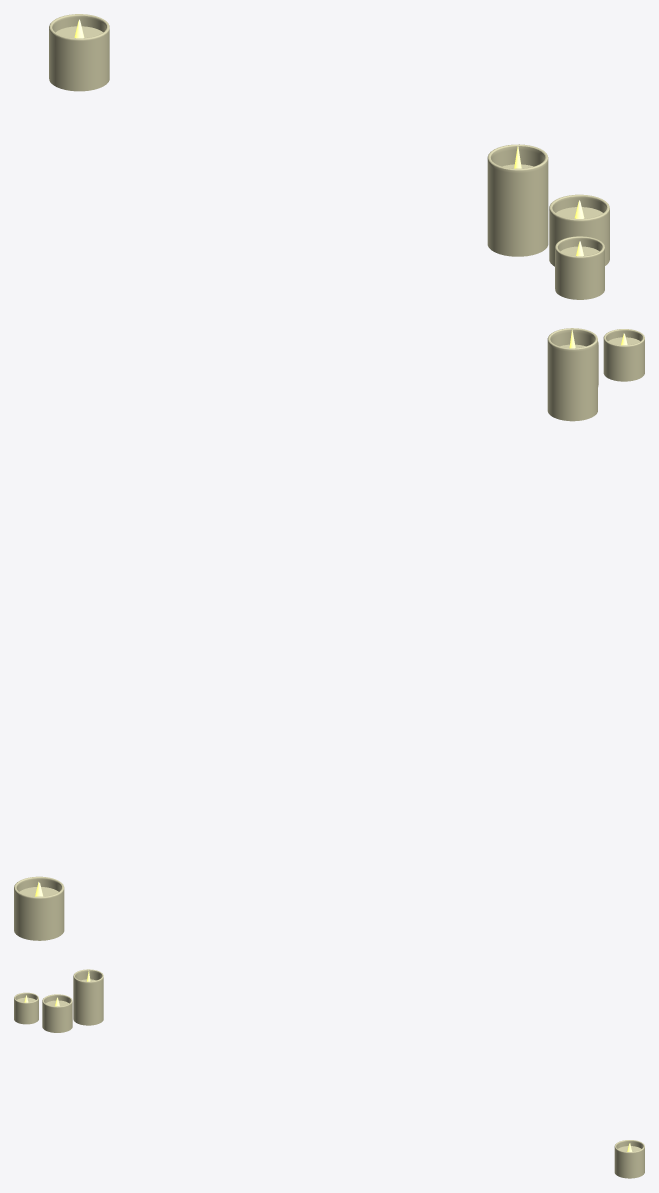
Rendered from candle.glb.
The picture shows the model from 3 angles, top to bottom: view 1: azimuth 30°, elevation 25°; view 2: azimuth 150°, elevation 25°; view 3: azimuth 270°, elevation 25°; orthographic projection. The views are drawn at different scales.
Visible parts, largest first — view 1: Candle2, Candle1, Candle4, Candle3; view 2: Candle2, Candle1, Candle4; view 3: Candle2, Candle1, Candle3, Candle4.
Part boxes in pixels (box(x1,y1,x2,y2)): Candle2: box(487, 144, 548, 256); Candle1: box(49, 14, 109, 91); Candle4: box(555, 236, 604, 299); Candle3: box(549, 194, 609, 266); Candle2: box(547, 328, 597, 421); Candle1: box(14, 876, 64, 940); Candle4: box(603, 329, 644, 381); Candle2: box(73, 969, 103, 1025); Candle1: box(614, 1140, 644, 1178); Candle3: box(42, 994, 72, 1032); Candle4: box(14, 992, 38, 1024).
Bounding box in the file's own units: 0.4309 × 0.9361 × 3.03.
